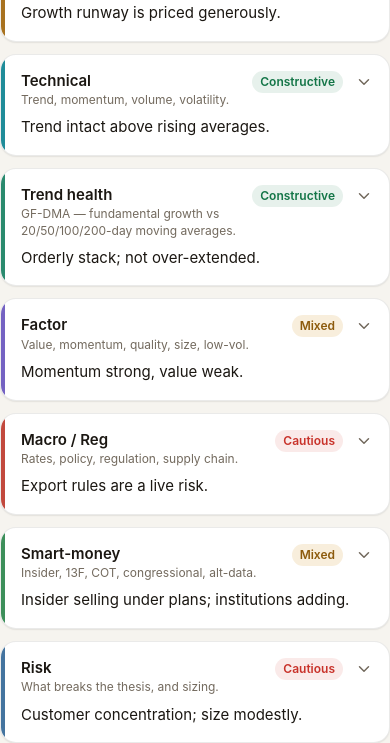
LensGrid › renders all eight lenses with stance badges and verify pointers
The width and height of the screenshot is (390, 743).
(page scrolled)
Expected: the text "Cautious" is shown 2 times, [275, 430, 343, 452]; [275, 658, 343, 680]
Expected: the text "Verify:" is not shown
Click the button "Risk What breaks the thesis, and sizing. Cautious" at (197, 677), box [21, 652, 373, 702]
(page scrolled)
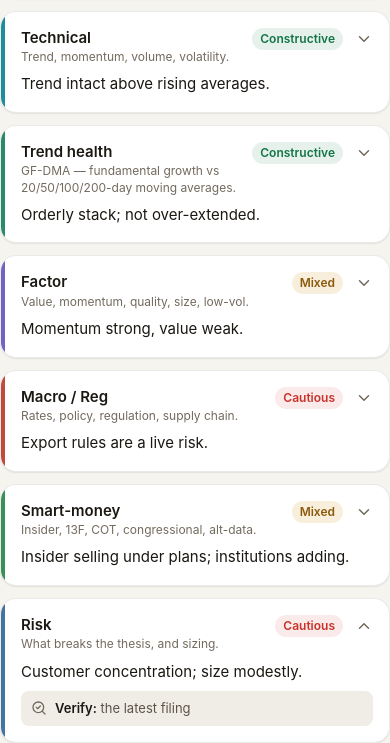
Expected: the element that starts with "Risk" shows "Verify:", [55, 700, 97, 716]
